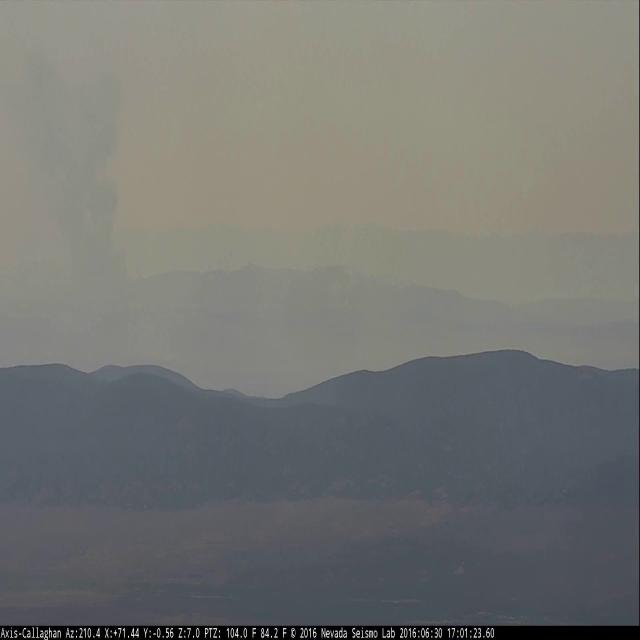smoke: (31, 64, 142, 300)
